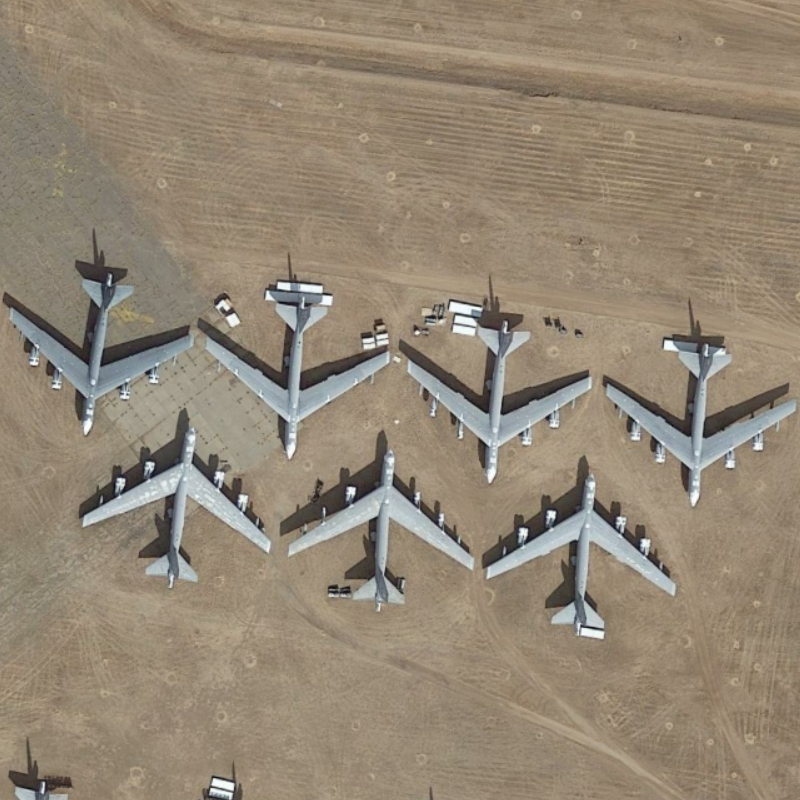A8: (196, 280, 403, 461), (481, 467, 687, 634), (284, 446, 481, 618), (7, 266, 198, 442), (402, 316, 594, 490), (600, 344, 798, 512), (76, 422, 273, 590)
